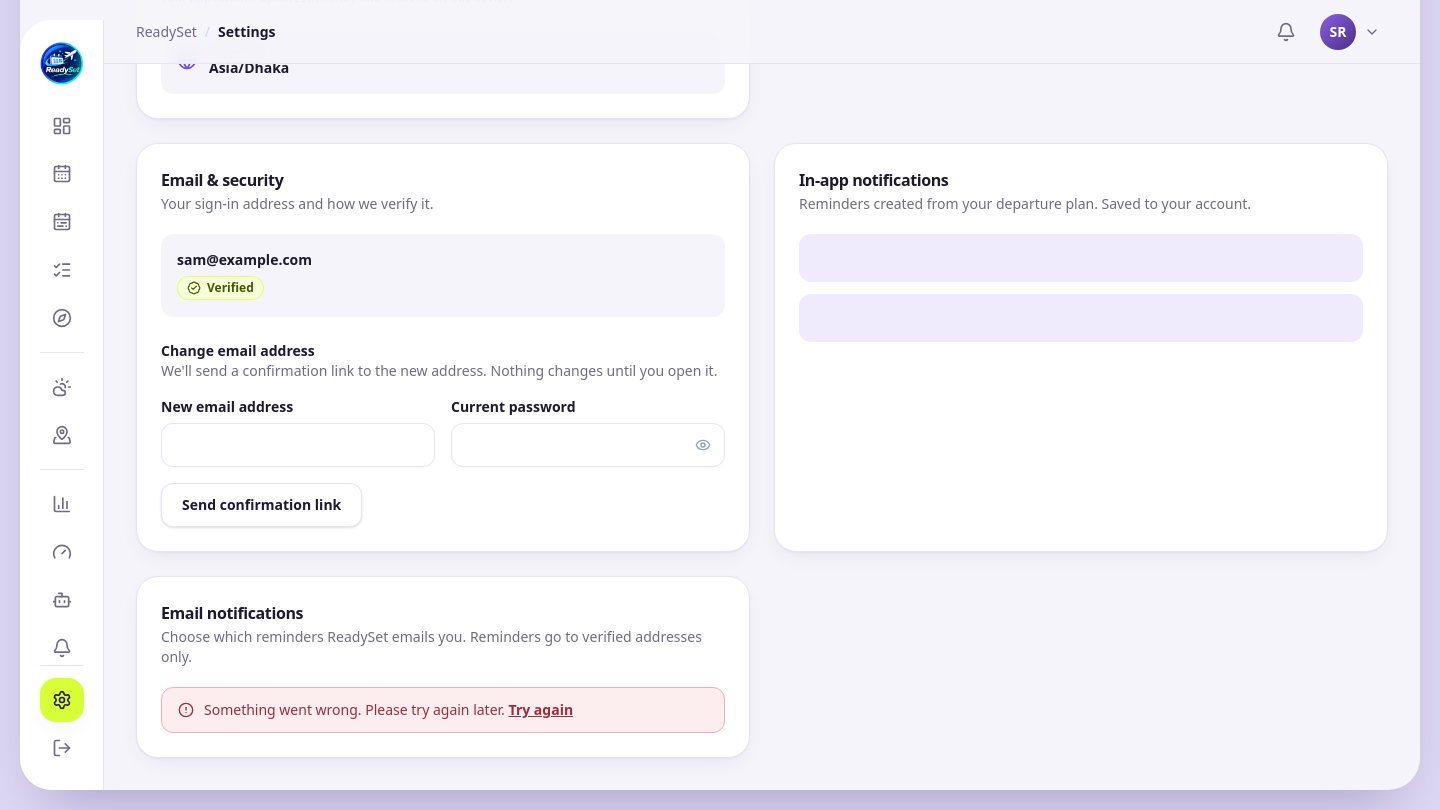
Test: Settings: email notification preferences and email change › shows a loading state, then an error with retry if preferences cannot be loaded
(page scrolled)
Click the button "Try again" at [541, 710], box [508,700,573,720]
(page scrolled)
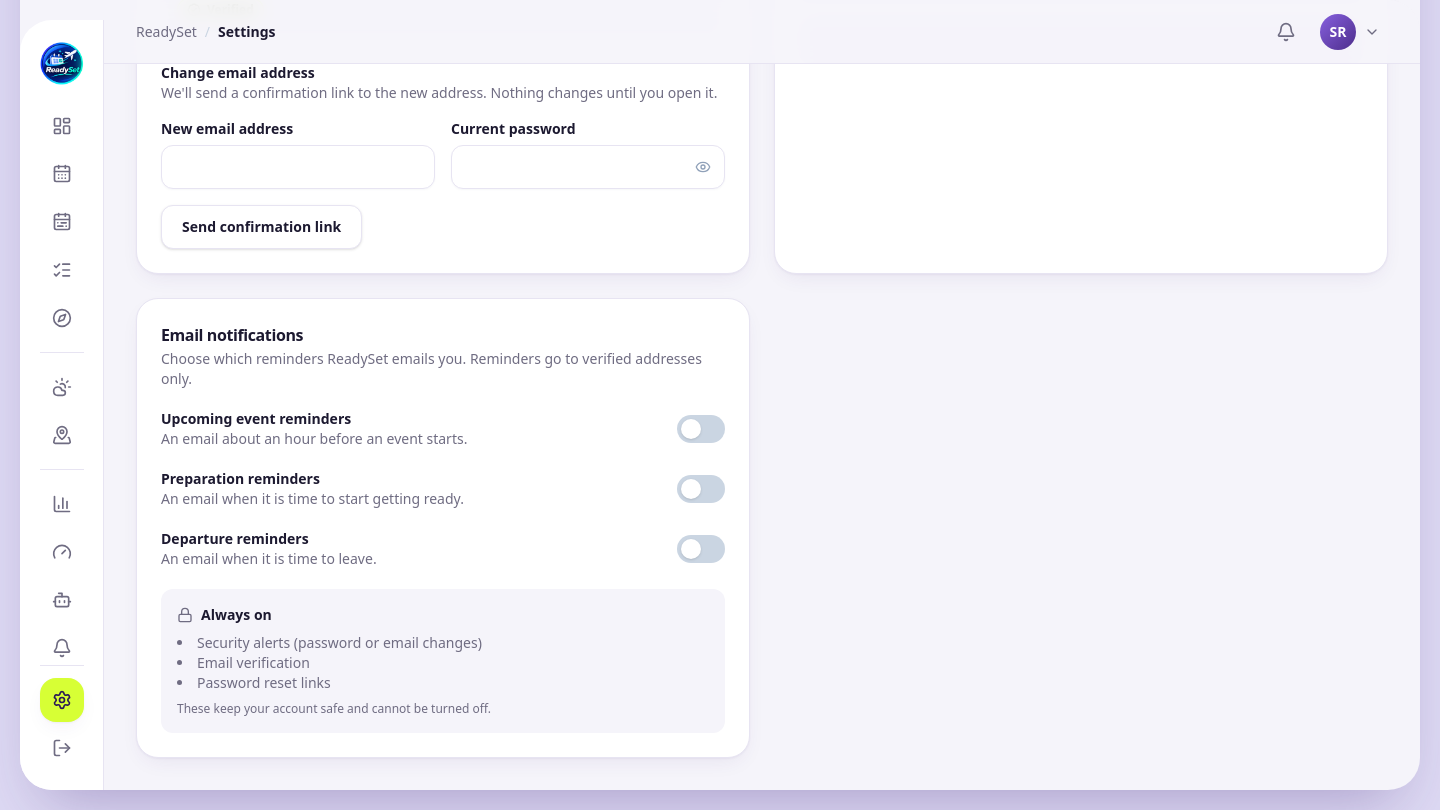
Check: the switch named "Departure reminders" is shown, box [677,535,725,563]
